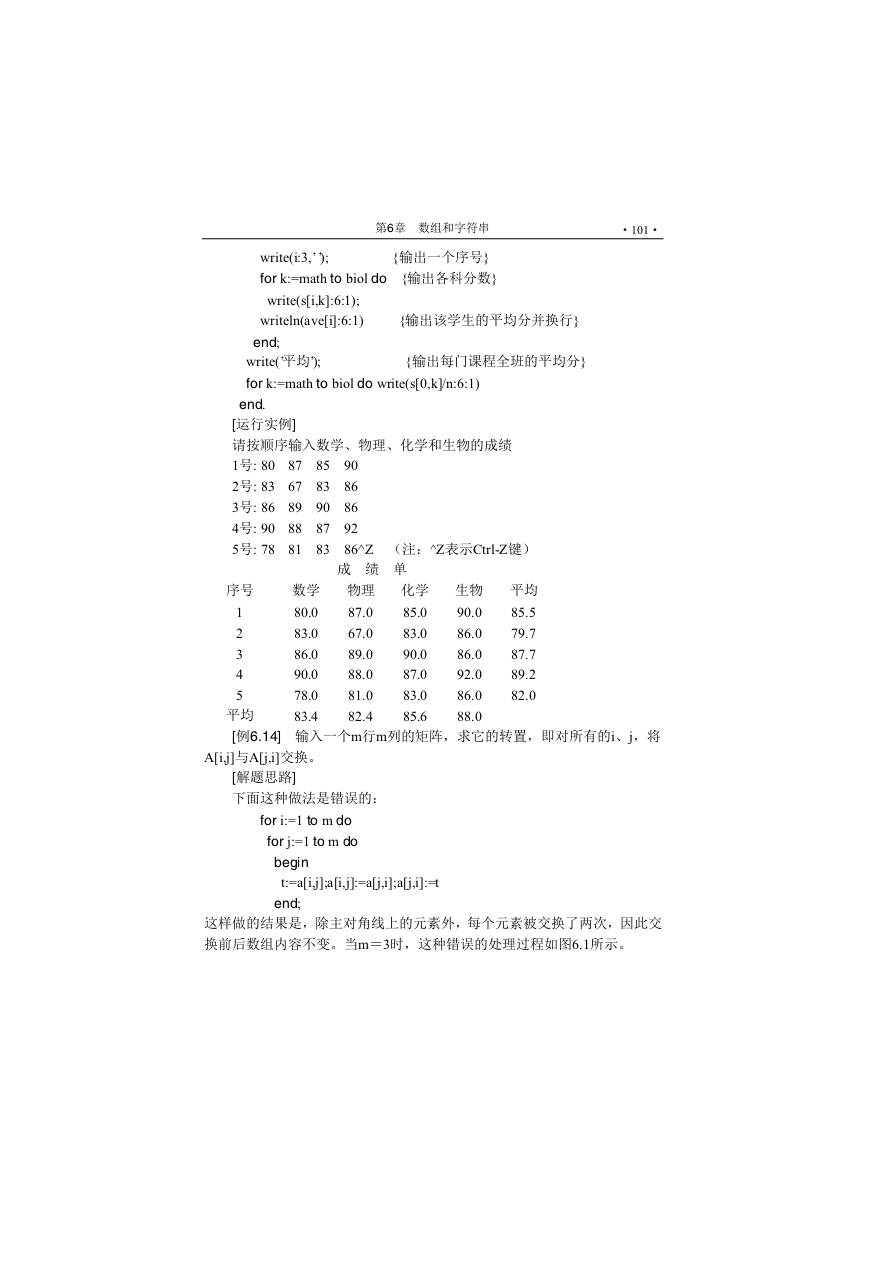table: (226, 583, 537, 721)
